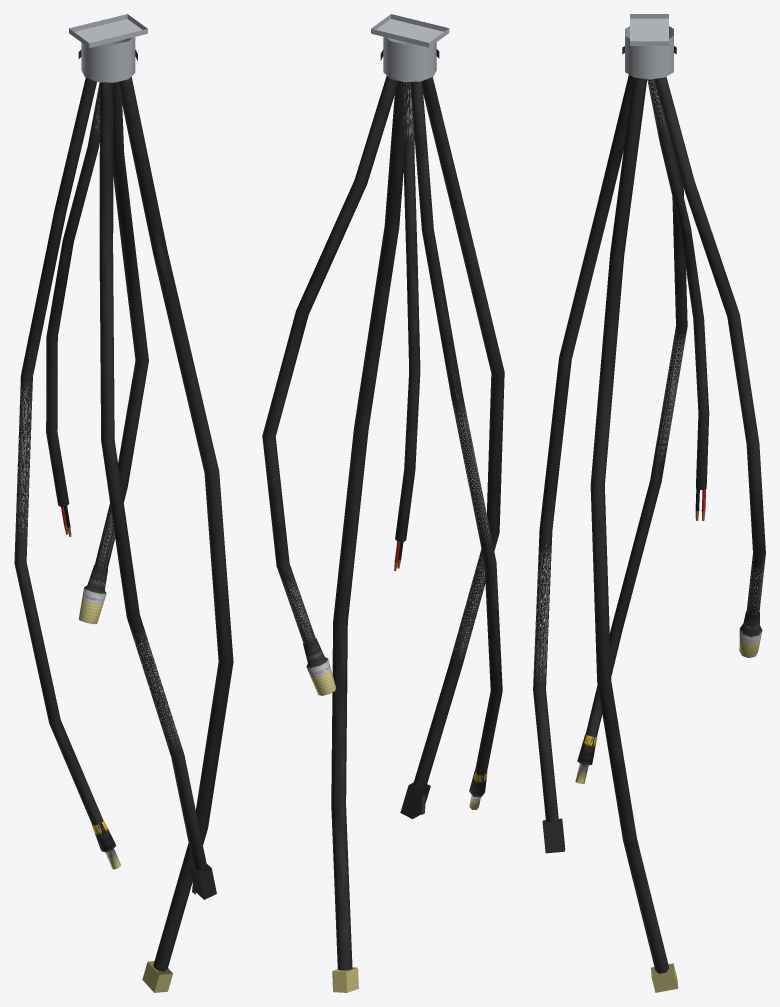
Rendered from SEC_Hanging_Industrial_Cable_Bundle.fbx.
3 views of the same model, side by side, from view 1: azimuth 30°, elevation 25°; view 2: azimuth 150°, elevation 25°; view 3: azimuth 270°, elevation 25° (orthographic). The views are drawn at different scales.
Parts seen in each view (by area): view 1: Cable_04, Cable_03, Cable_02, Cable_01, Cable_05, Cable_Anchor, Cable_End_01, Cable_End_03, Cable_End_02, Cable_End_04; view 2: Cable_04, Cable_03, Cable_02, Cable_01, Cable_05, Cable_Anchor, Cable_End_01, Cable_End_03, Cable_End_04; view 3: Cable_04, Cable_03, Cable_01, Cable_02, Cable_05, Cable_Anchor, Cable_End_01, Cable_End_03, Cable_End_02, Cable_End_04.
Boxes of the visible parts, left/top/right/bottom form: Cable_04: left=117, top=76, right=233, bottom=971; Cable_03: left=99, top=82, right=206, bottom=870; Cable_02: left=14, top=78, right=103, bottom=825; Cable_01: left=94, top=82, right=148, bottom=568; Cable_05: left=46, top=82, right=99, bottom=506; Cable_Anchor: left=69, top=14, right=147, bottom=82; Cable_End_01: left=78, top=565, right=107, bottom=624; Cable_End_03: left=189, top=863, right=216, bottom=899; Cable_End_02: left=92, top=820, right=121, bottom=869; Cable_End_04: left=142, top=961, right=172, bottom=992; Cable_04: left=331, top=81, right=404, bottom=970; Cable_03: left=413, top=77, right=504, bottom=788; Cable_02: left=410, top=81, right=502, bottom=775; Cable_01: left=262, top=76, right=398, bottom=643; Cable_05: left=395, top=82, right=420, bottom=542; Cable_Anchor: left=371, top=14, right=449, bottom=82; Cable_End_01: left=303, top=638, right=336, bottom=695; Cable_End_03: left=400, top=782, right=430, bottom=818; Cable_End_04: left=332, top=967, right=358, bottom=992; Cable_04: left=590, top=77, right=669, bottom=973; Cable_03: left=533, top=74, right=633, bottom=822; Cable_01: left=654, top=76, right=765, bottom=616; Cable_02: left=585, top=142, right=687, bottom=736; Cable_05: left=647, top=79, right=709, bottom=489; Cable_Anchor: left=622, top=14, right=676, bottom=79; Cable_End_01: left=739, top=611, right=762, bottom=657; Cable_End_03: left=542, top=818, right=565, bottom=853; Cable_End_02: left=575, top=734, right=597, bottom=783; Cable_End_04: left=651, top=963, right=678, bottom=992.
Size of the model in its own units: 16.07 by 79.82 by 18.
Materials: 2 (2 with a texture image).
